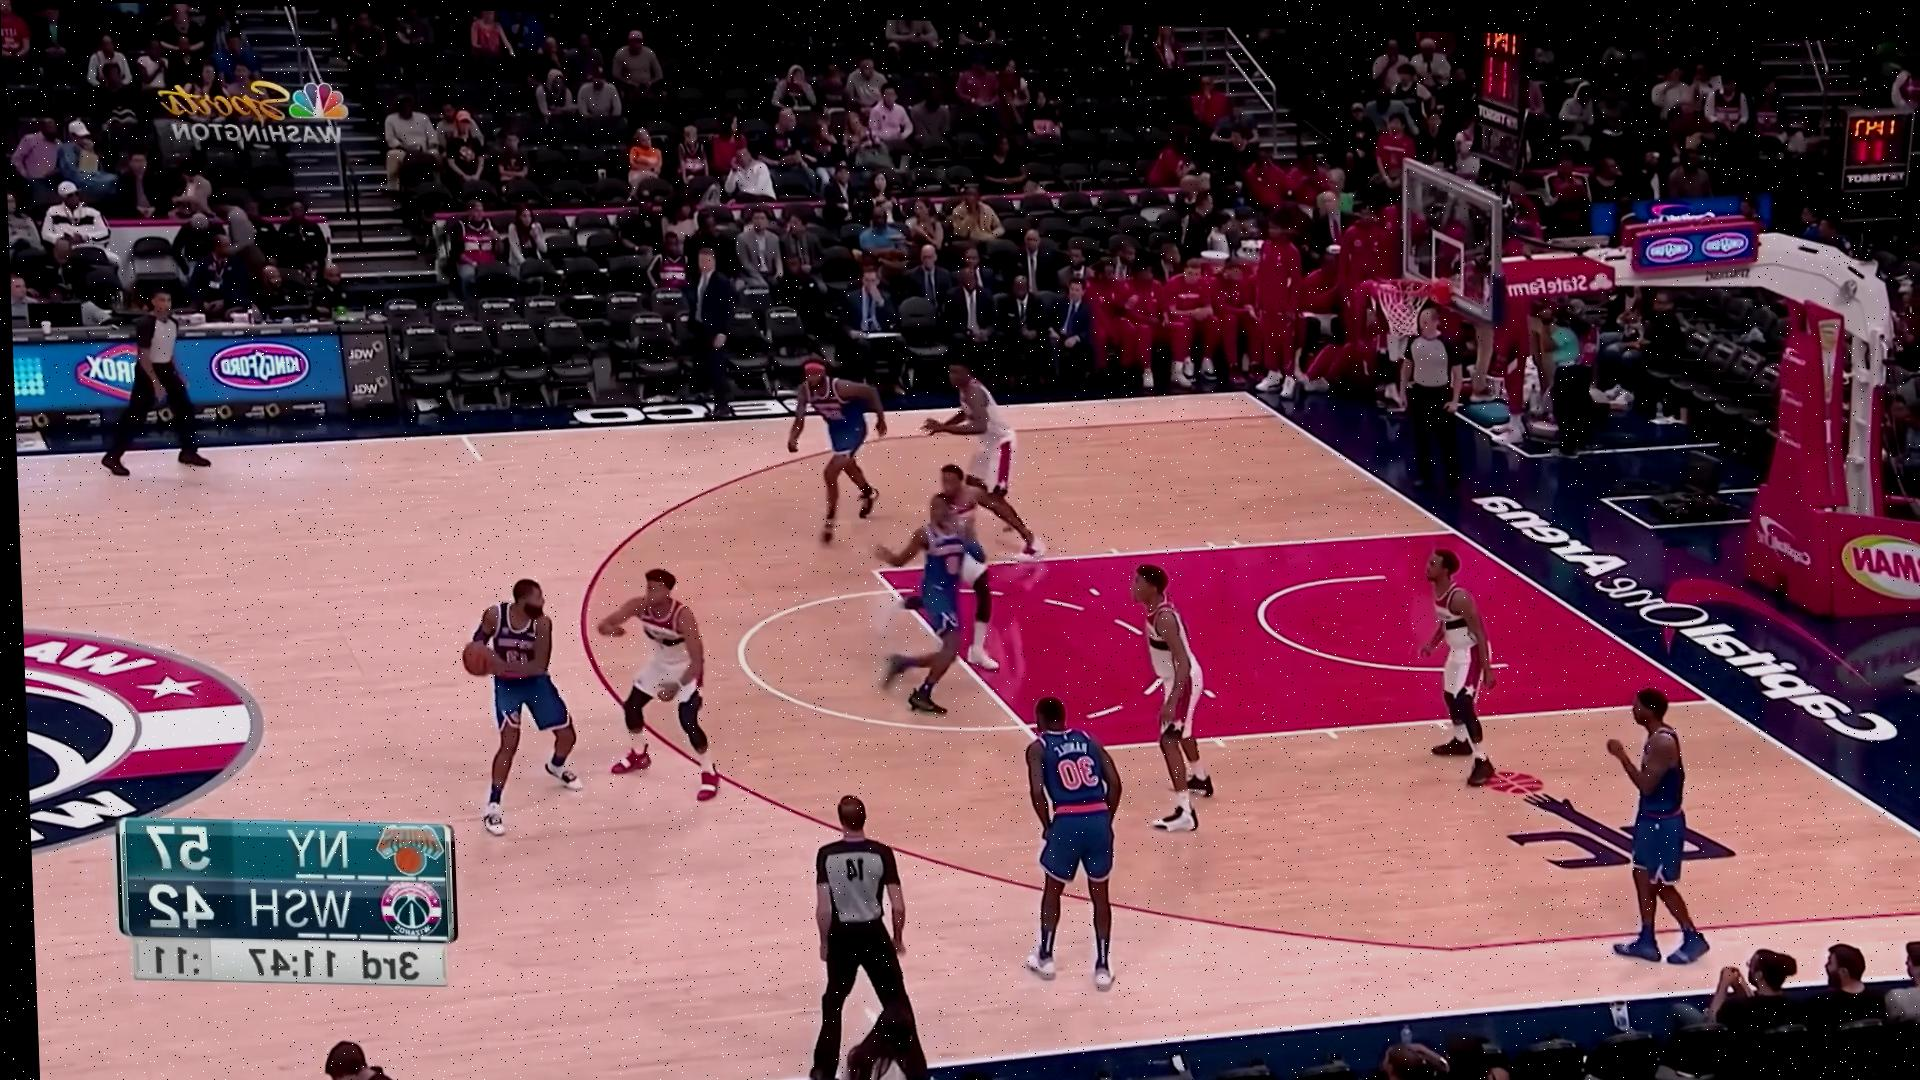no_foul: (443, 527, 765, 857)
